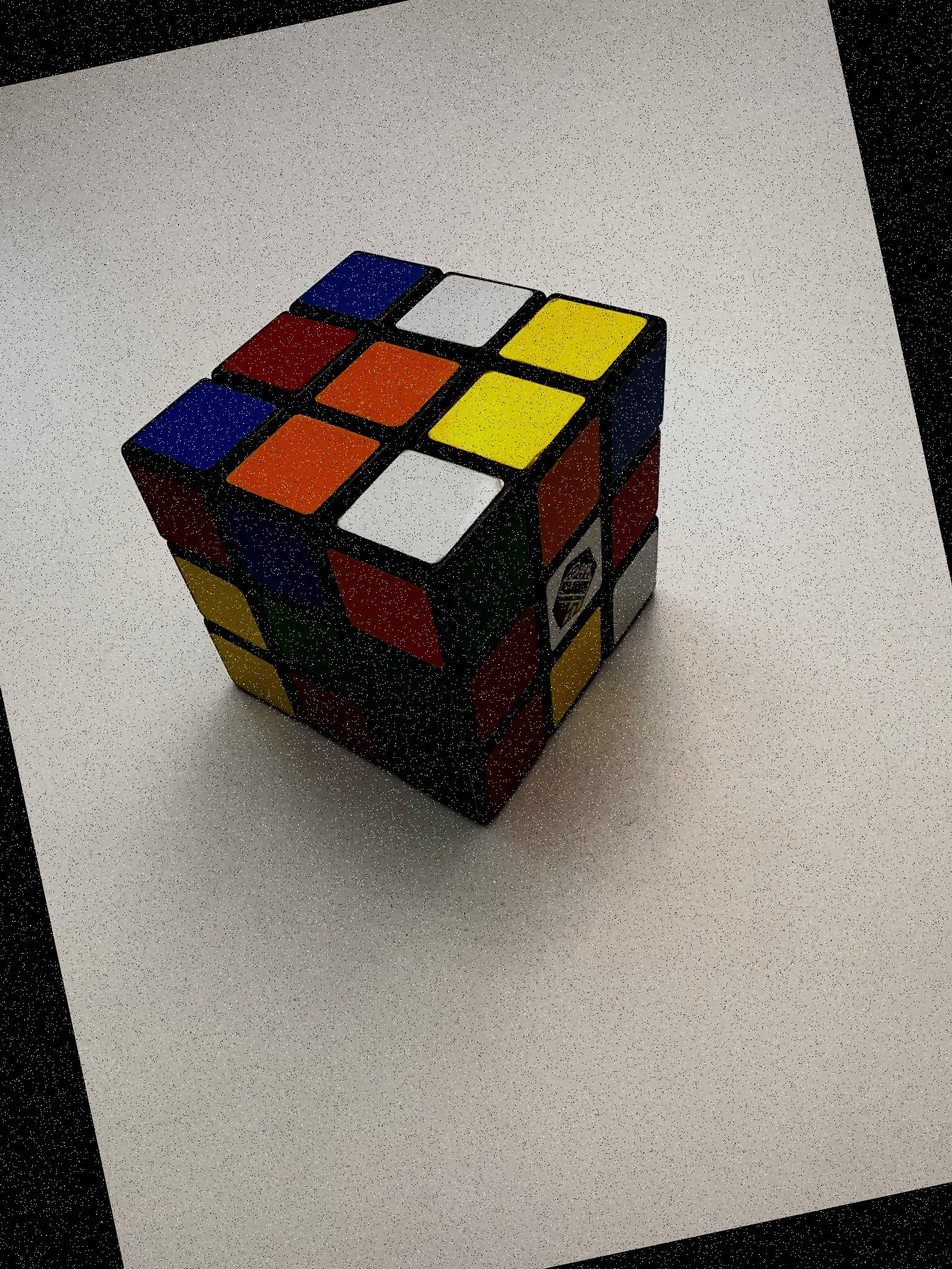rubiks_cube: (127, 251, 667, 819)
